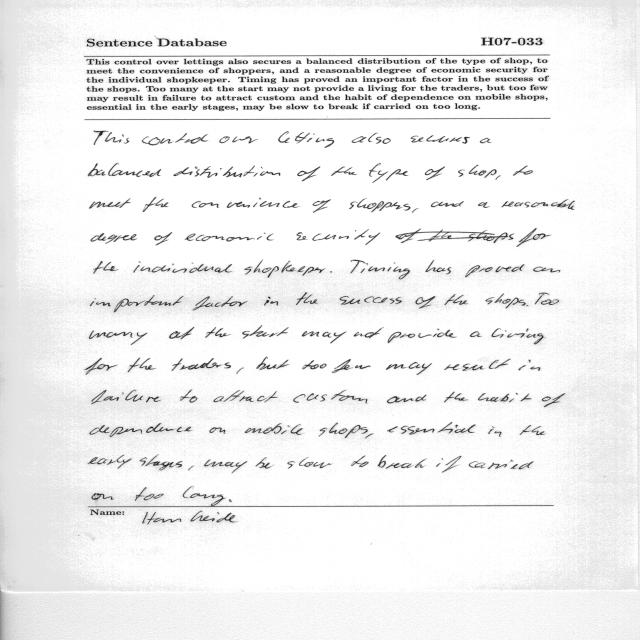word: (396, 229, 515, 243), (91, 295, 184, 312), (245, 260, 326, 278), (90, 423, 191, 437), (174, 165, 281, 178), (297, 229, 381, 245), (134, 261, 232, 273), (387, 422, 476, 435), (350, 260, 410, 279), (192, 198, 299, 208), (88, 163, 161, 177), (91, 390, 161, 404), (388, 329, 457, 343), (294, 390, 368, 403), (278, 131, 334, 148), (89, 330, 147, 345), (349, 199, 411, 213), (492, 329, 545, 345), (213, 390, 278, 403), (193, 296, 248, 311), (444, 359, 511, 371), (502, 199, 575, 210), (142, 133, 208, 145), (369, 163, 408, 183), (171, 358, 231, 371), (465, 265, 524, 278), (319, 423, 368, 438), (185, 233, 273, 241), (245, 423, 303, 435), (378, 455, 427, 469), (517, 228, 551, 247), (140, 455, 183, 470), (88, 455, 132, 469), (242, 326, 289, 339), (204, 460, 247, 474), (486, 294, 526, 309), (386, 362, 432, 375), (469, 460, 534, 469), (302, 331, 346, 344), (339, 296, 402, 305), (85, 358, 118, 375), (332, 359, 371, 373), (411, 135, 470, 144), (458, 165, 497, 178), (91, 233, 137, 244), (94, 131, 130, 145), (288, 458, 333, 469), (478, 393, 532, 402), (90, 198, 131, 209), (352, 133, 391, 144), (256, 357, 289, 370), (437, 456, 462, 472), (128, 358, 156, 372), (143, 197, 168, 212), (425, 260, 451, 274), (298, 167, 321, 182), (542, 393, 565, 407), (169, 327, 195, 339), (387, 395, 426, 403), (94, 261, 118, 273), (535, 293, 559, 305), (205, 327, 231, 338), (220, 136, 258, 143), (296, 293, 318, 305), (331, 166, 357, 176), (425, 167, 445, 180), (416, 296, 436, 309), (520, 425, 546, 435), (445, 294, 468, 305), (313, 199, 331, 213), (354, 329, 382, 338), (519, 360, 541, 371), (444, 392, 468, 402), (155, 233, 173, 246), (180, 390, 198, 403), (302, 361, 327, 370), (256, 457, 274, 469), (513, 166, 533, 176), (431, 202, 464, 208), (351, 456, 369, 467), (534, 267, 561, 273), (489, 426, 502, 437), (264, 297, 278, 306), (209, 427, 226, 434), (478, 202, 490, 208), (470, 331, 481, 337), (480, 138, 491, 143), (236, 368, 244, 374), (366, 434, 374, 439), (412, 208, 419, 213), (496, 175, 501, 180), (188, 466, 194, 470), (330, 271, 332, 273), (526, 305, 528, 306)
